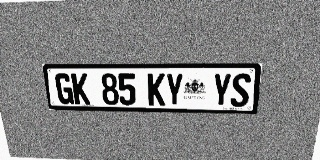5: (118, 73, 136, 105)
8: (100, 73, 119, 105)
G: (54, 73, 74, 104)
K: (71, 73, 90, 105), (147, 73, 165, 106)
S: (230, 73, 251, 107)
Y: (212, 73, 232, 107), (165, 73, 183, 106)
